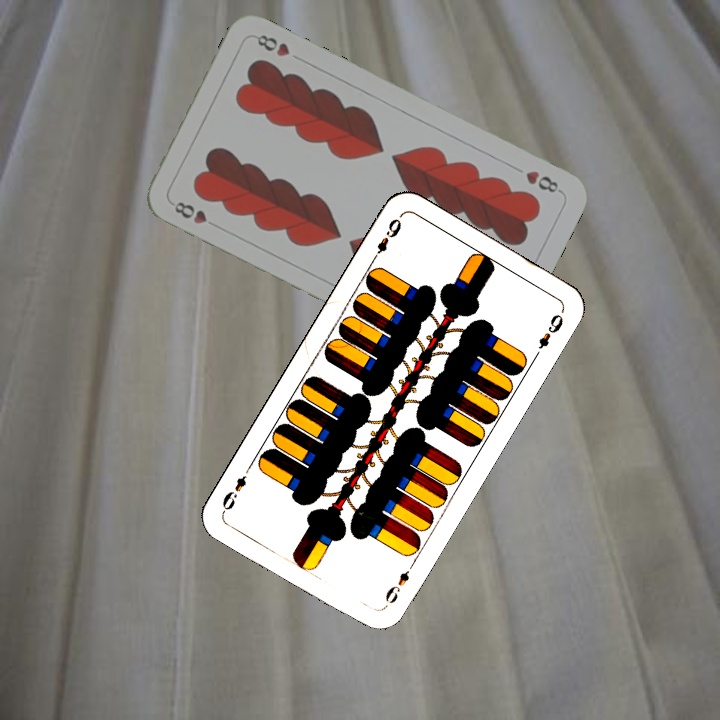E9: (380, 558, 418, 611), (367, 214, 404, 265)
H8: (170, 197, 222, 231), (521, 166, 565, 196)
